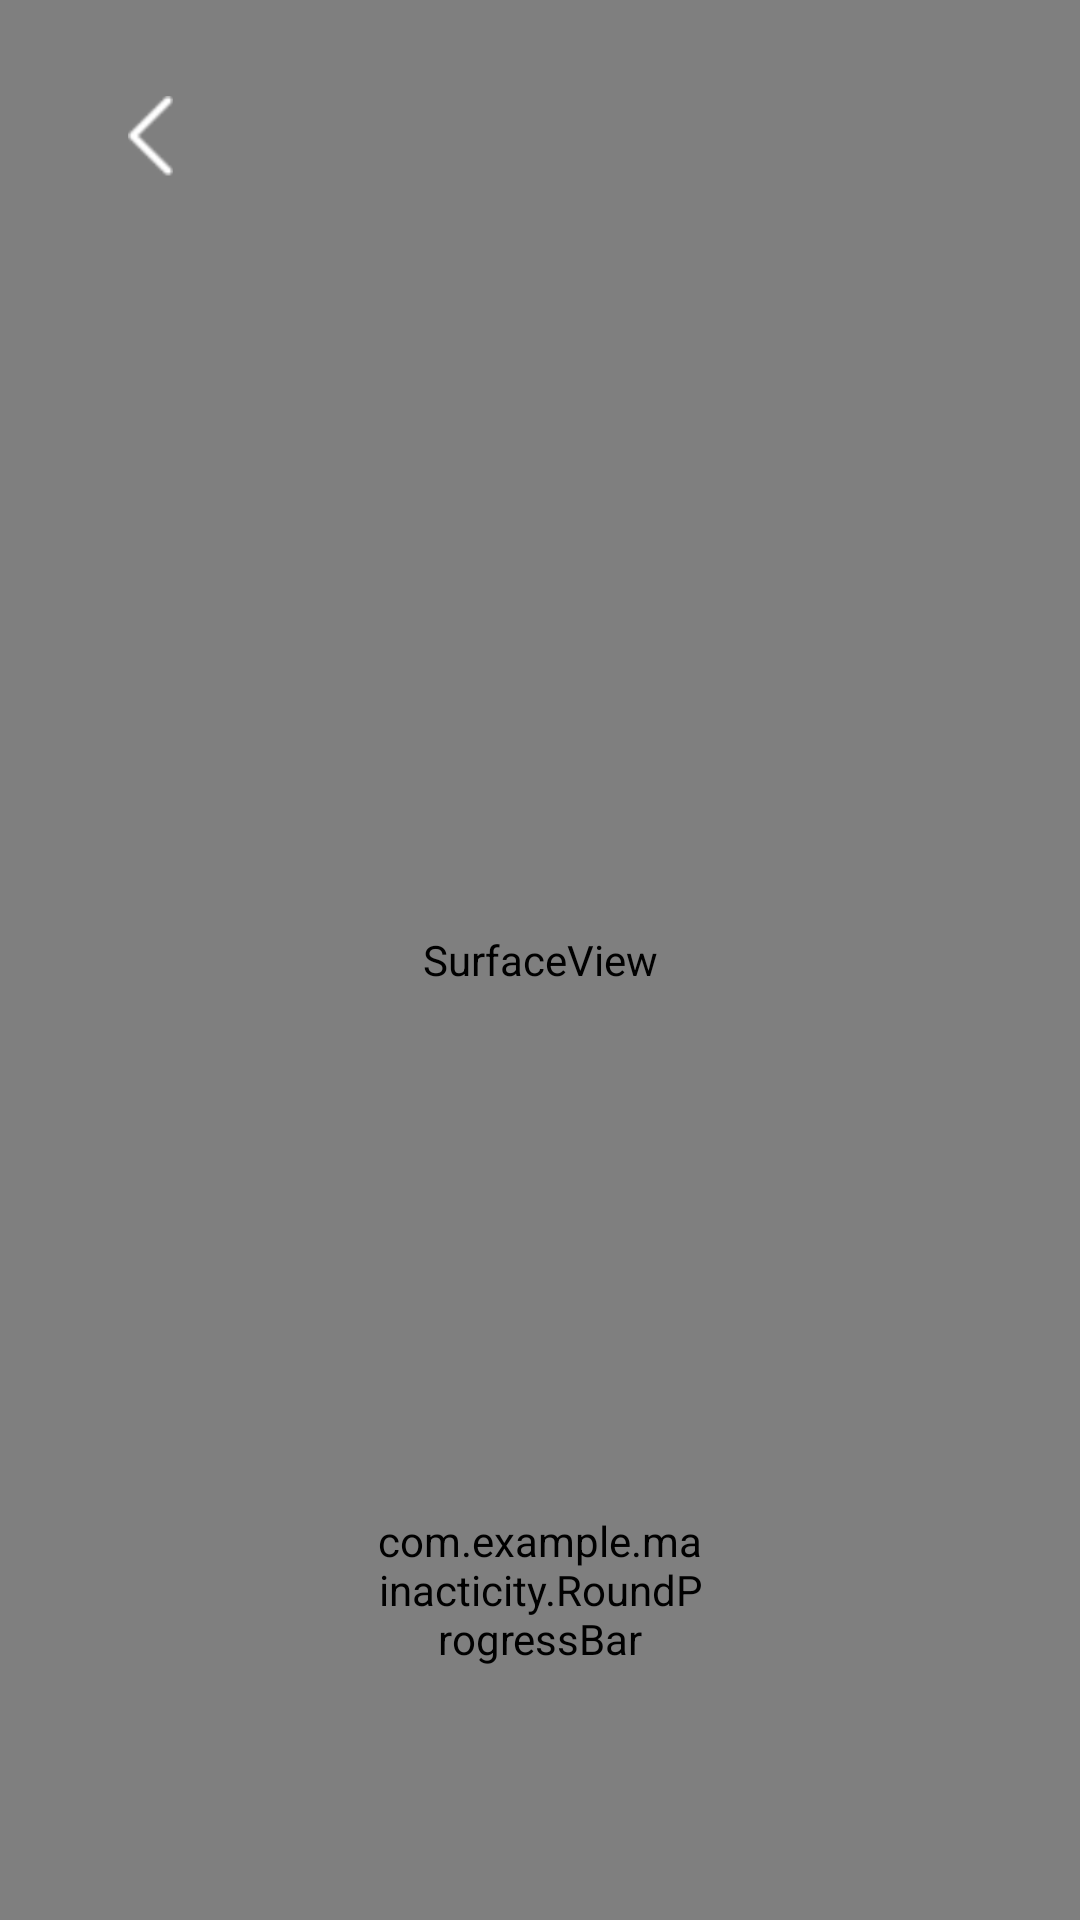

Icons on this 1080×1920 Android screen, each with its box as (x1, y1, x2, y2):
arrow reverse: (128, 96, 173, 176)
